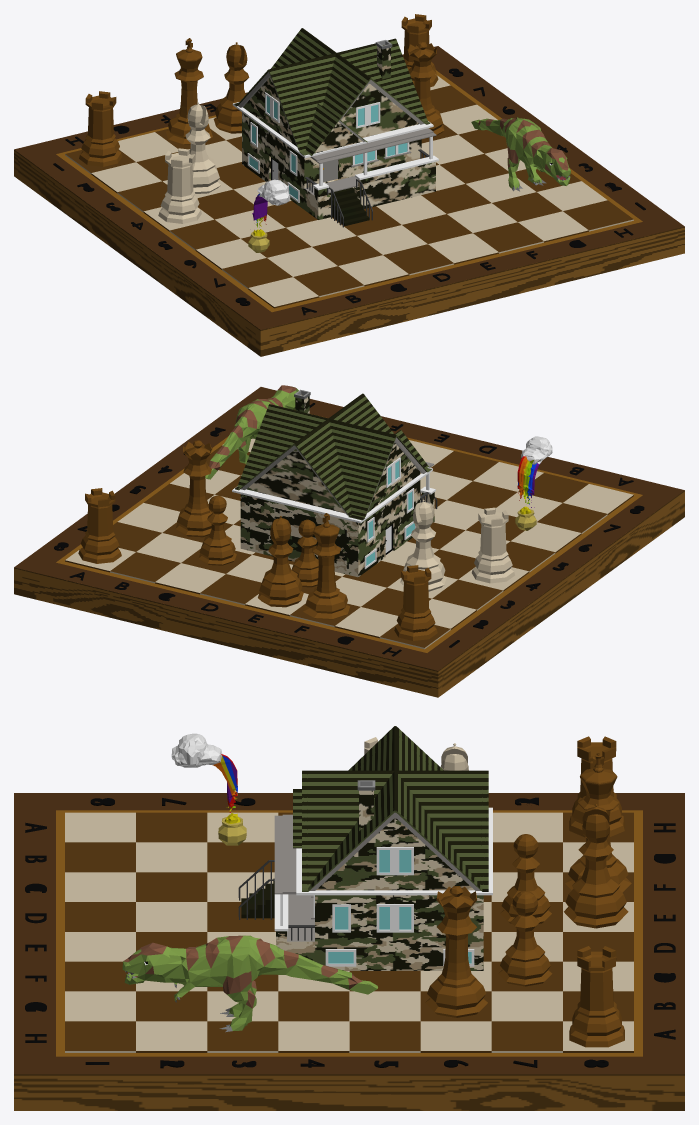
The picture shows the model from 3 angles, top to bottom: view 1: azimuth 30°, elevation 25°; view 2: azimuth 150°, elevation 25°; view 3: azimuth 270°, elevation 25°; orthographic projection. The views are drawn at different scales.
Visible parts, largest first — view 1: Cube.002, Cube.001, ANIMAL_TREX, OBJRANDOM_RAINBOW; view 2: Cube.002, Cube.001, ANIMAL_TREX, OBJRANDOM_RAINBOW; view 3: Cube.002, Cube.001, ANIMAL_TREX, OBJRANDOM_RAINBOW.
Part boxes in pixels (<box>): Cube.002: <box>14,14,684,356</box>; Cube.001: <box>232,28,438,227</box>; ANIMAL_TREX: <box>471,117,570,191</box>; OBJRANDOM_RAINBOW: <box>248,179,290,252</box>; Cube.002: <box>14,387,684,697</box>; Cube.001: <box>232,389,437,577</box>; ANIMAL_TREX: <box>205,385,298,479</box>; OBJRANDOM_RAINBOW: <box>515,436,552,530</box>; Cube.002: <box>14,736,684,1110</box>; Cube.001: <box>238,726,492,970</box>; ANIMAL_TREX: <box>122,935,377,1032</box>; OBJRANDOM_RAINBOW: <box>171,733,246,845</box>.
Size of the model in its own units: 3981 by 1488 by 4012.
Materials: 37 (4 with a texture image).
